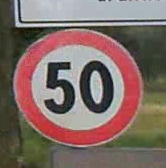limite 50: (9, 26, 146, 148)
